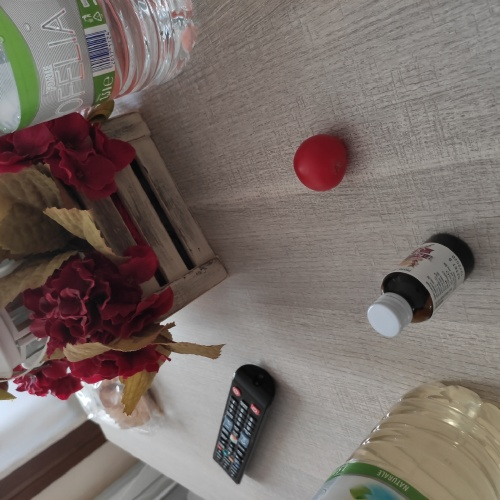pomodoro: (288, 132, 354, 192)
